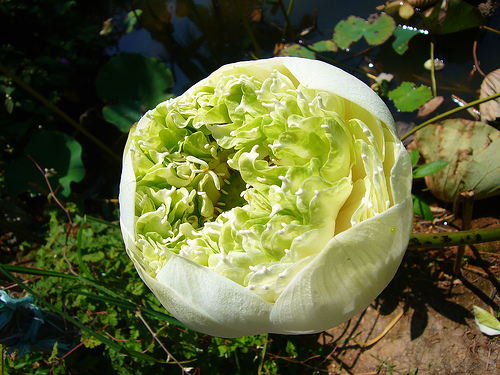cabbage: (119, 57, 413, 335)
